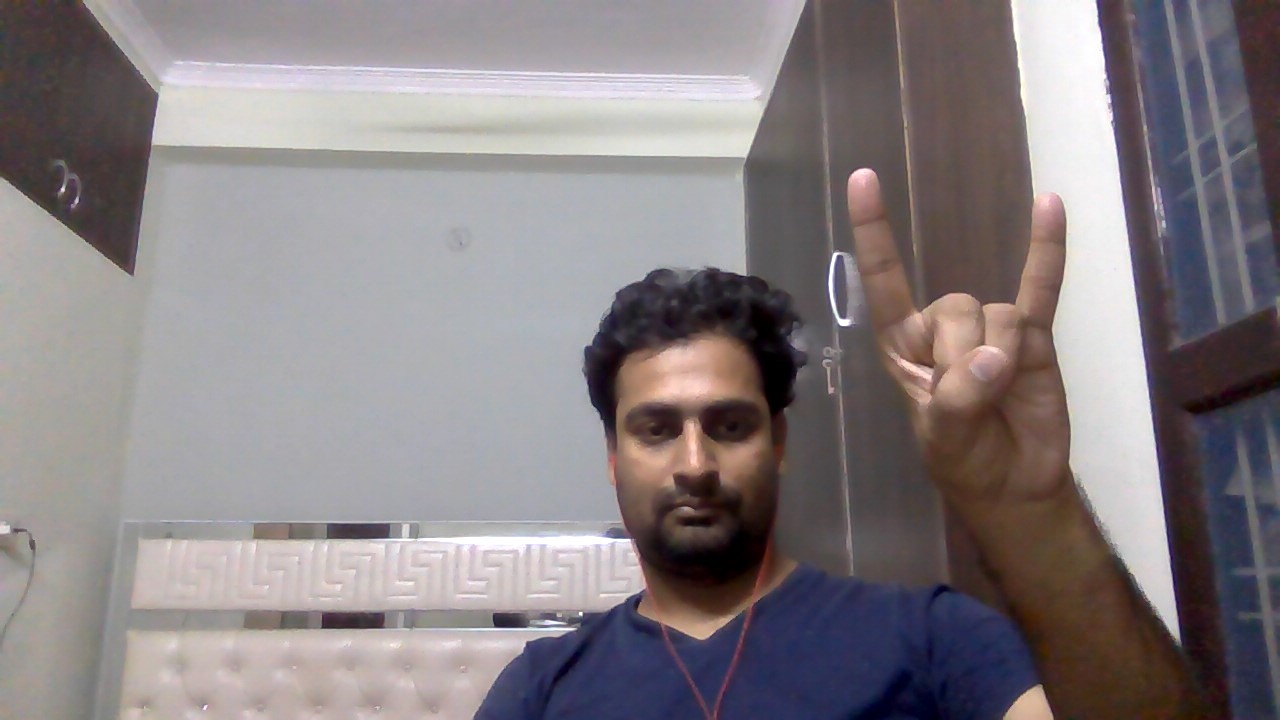Select All: (832, 160, 1107, 514)
